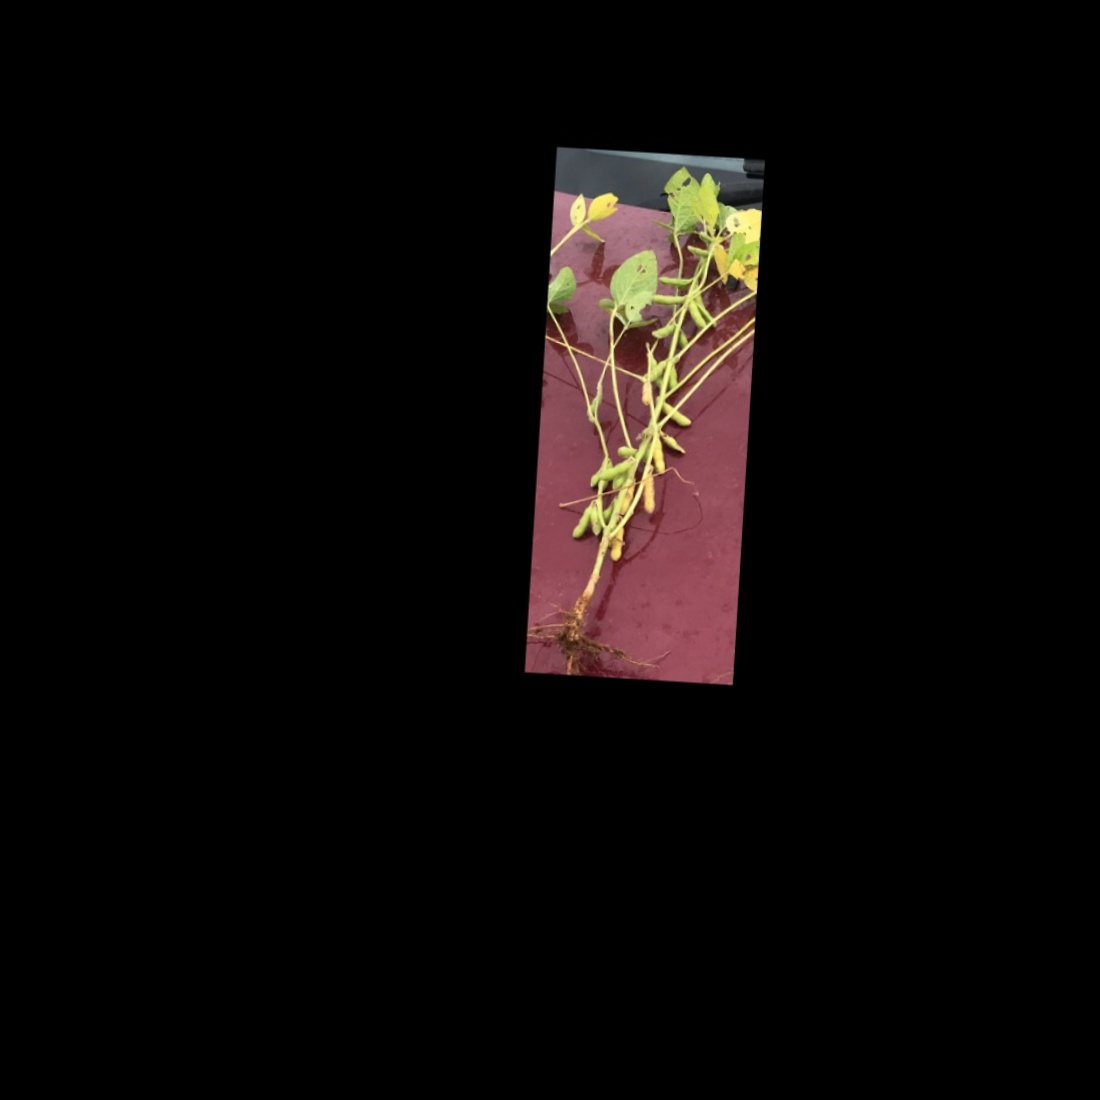pod: (565, 499, 600, 543), (640, 463, 663, 515), (657, 400, 695, 427), (642, 354, 670, 388), (647, 317, 680, 341), (645, 290, 689, 307), (680, 240, 712, 261), (654, 274, 695, 288)
soy: (527, 161, 757, 677)
